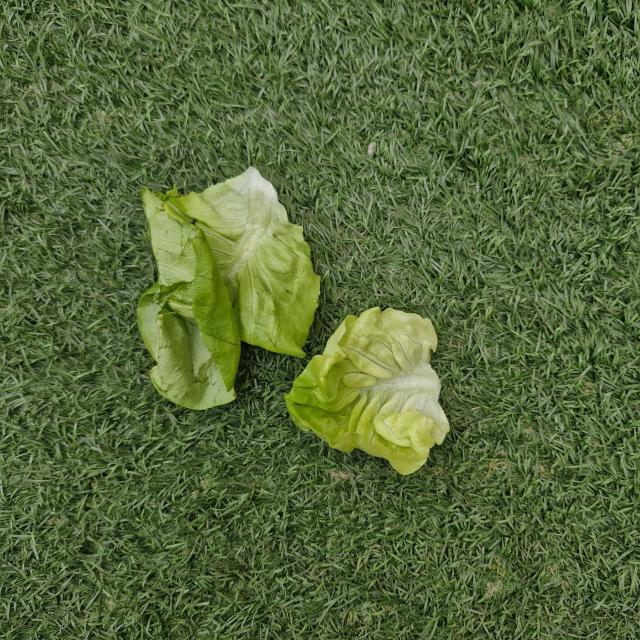food_waste: (122, 160, 318, 412), (294, 304, 454, 473)
